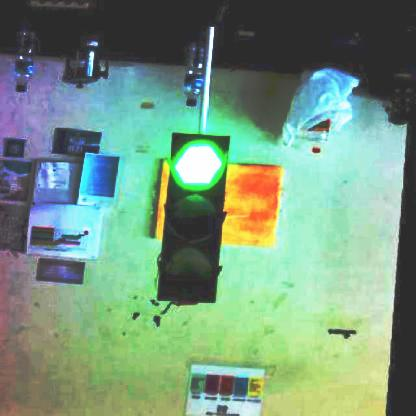Traffic Light -Green-: (162, 131, 232, 300)
